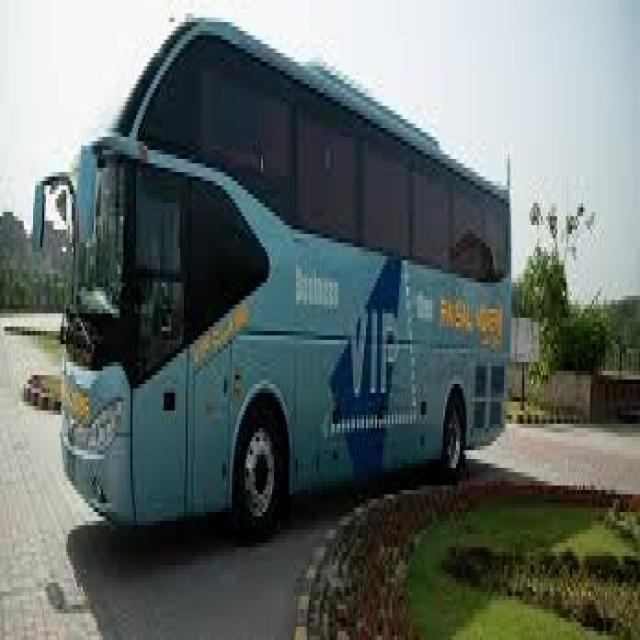bus: (41, 1, 523, 548)
